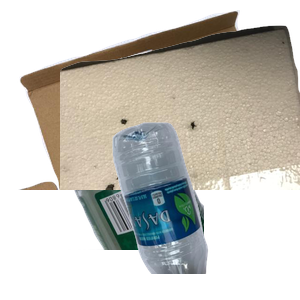cardboard: (16, 10, 256, 190)
glass: (60, 120, 300, 300)
plastic: (110, 120, 300, 300)
trash: (60, 23, 300, 203)
